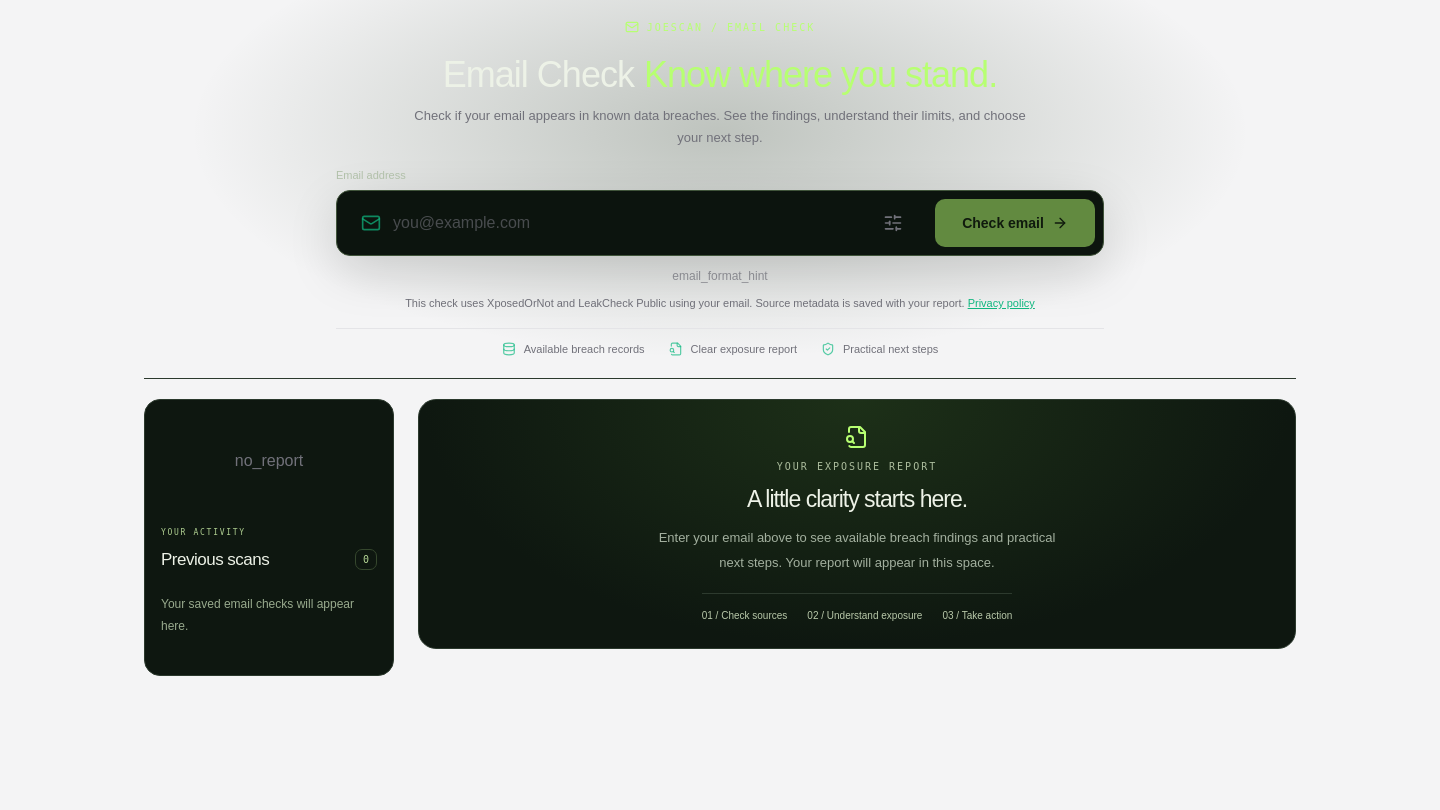
Test: EmailAnalyzer follow-up flag (no fake monitoring) › renders the report summary through translation keys
Type "user@example.com" into the field with placeholder "you@example.com" at (634, 223), box [345, 199, 923, 247]
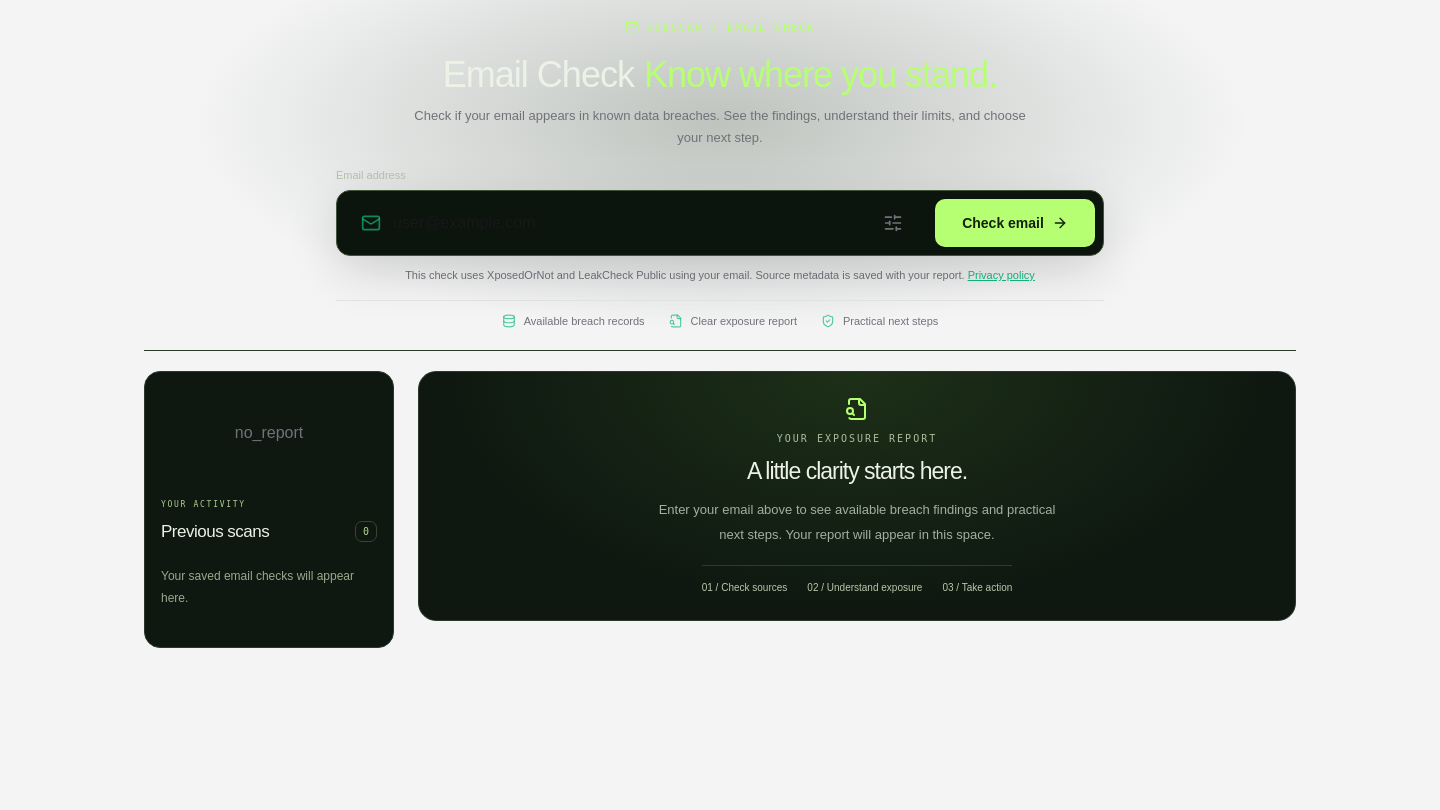
Click the button "Check email" at (1015, 223), box [935, 199, 1095, 247]
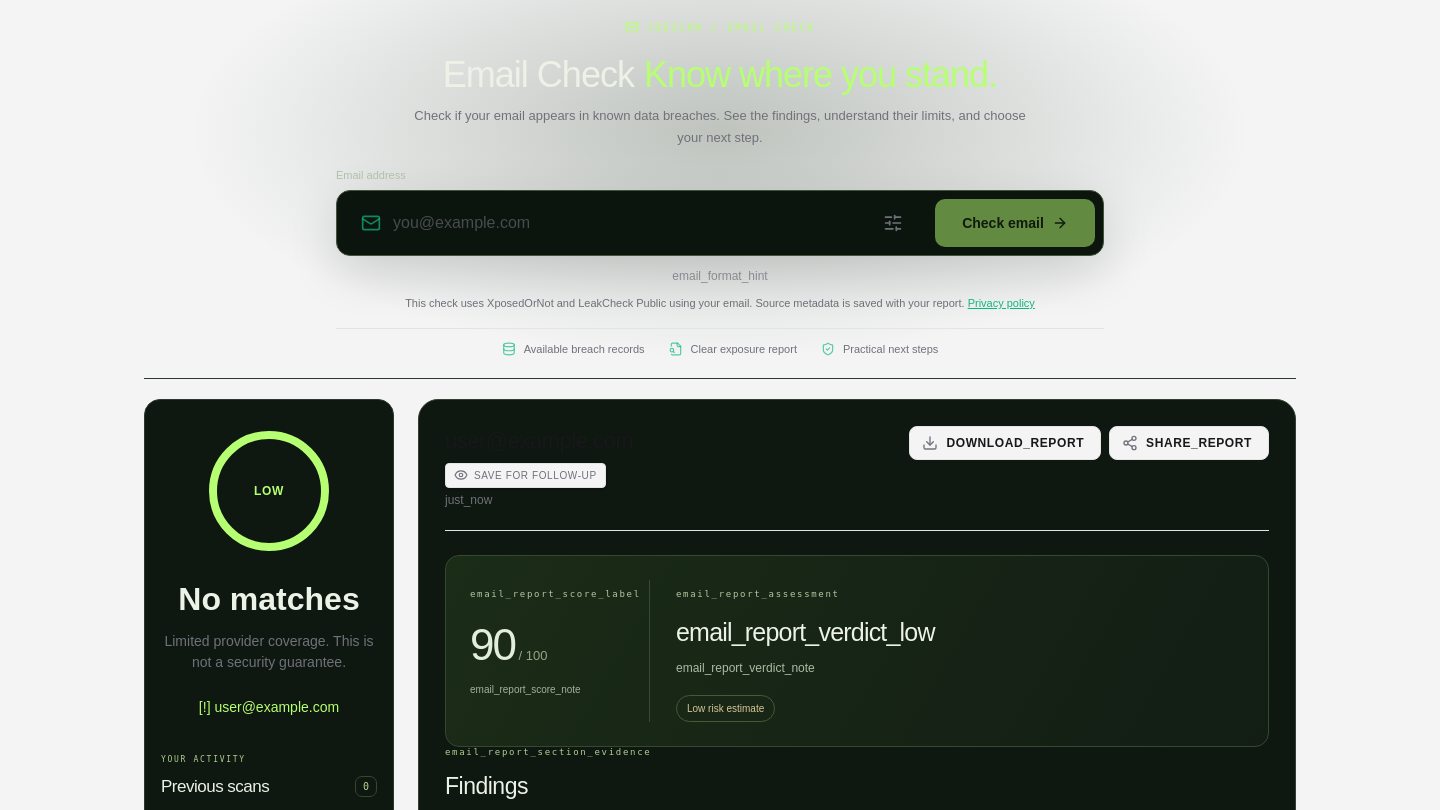
Result: the button "Save for follow-up" is shown at [445, 463, 606, 488]
Result: the text "email_report_score_label" is shown at [470, 589, 641, 599]
Result: the text "email_report_assessment" is shown at [676, 589, 840, 599]
